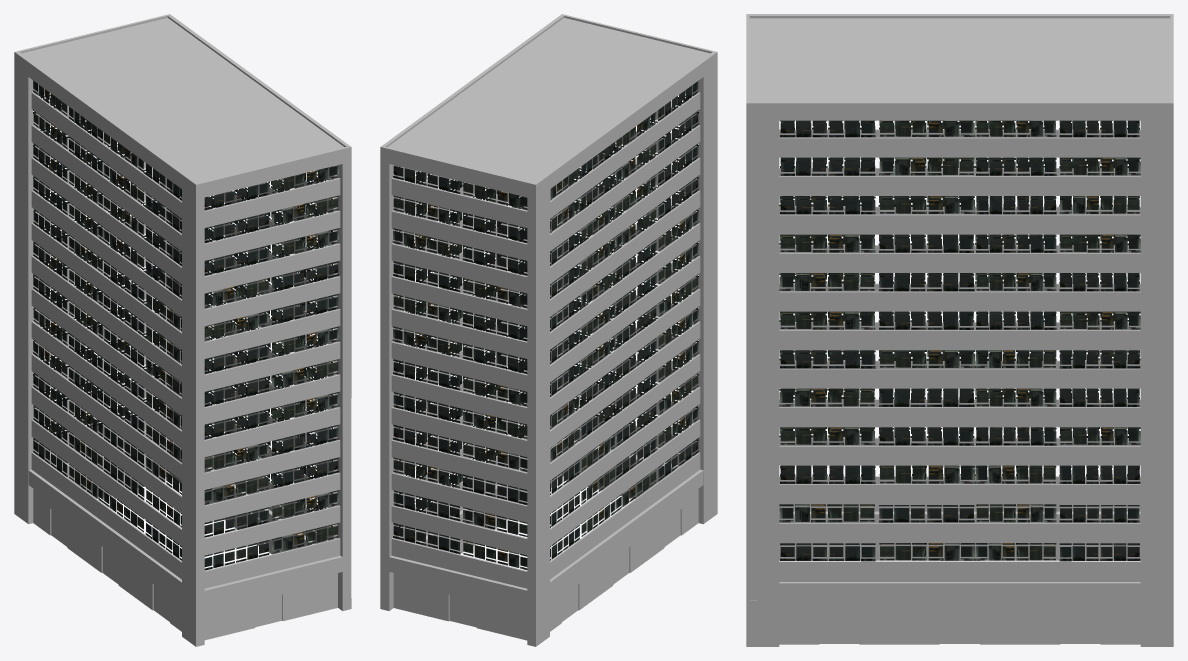
3 renders of one model, left to right at view 1: azimuth 30°, elevation 25°; view 2: azimuth 150°, elevation 25°; view 3: azimuth 270°, elevation 25°, orthographic. The views are drawn at different scales.
Parts seen in each view (by area): view 1: BC-023; view 2: BC-023; view 3: BC-023.
Boxes of the visible parts, <box> form: BC-023: <box>14,14,351,646</box>; BC-023: <box>380,14,717,646</box>; BC-023: <box>746,14,1173,646</box>.
Size of what is drawn, in the model's own units: 15.06 by 42.79 by 30.48.
